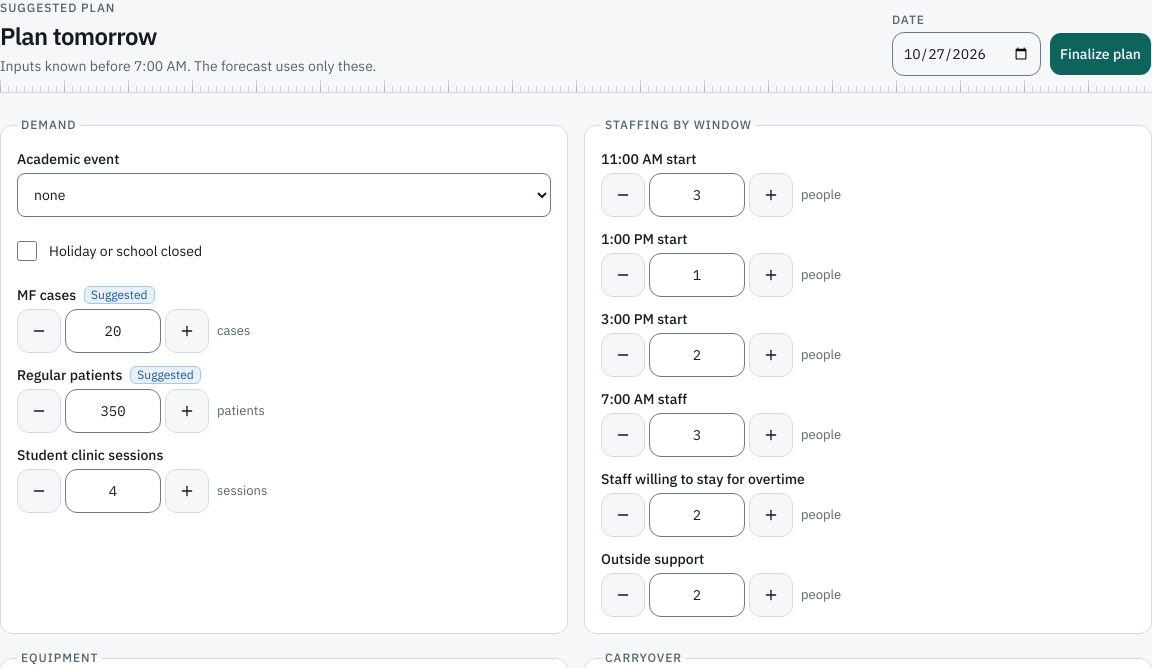
Test: PlanForm › shows a conflict message with a reload option on 409
The width and height of the screenshot is (1152, 668).
Check: the field labelled "Regular patients" is shown, box left=65, top=389, right=161, bottom=433
What coordinates should you click on to do the following:
click the button "Finalize plan"
I would click on:
 (1100, 54)
Its box is left=1049, top=32, right=1151, bottom=76.
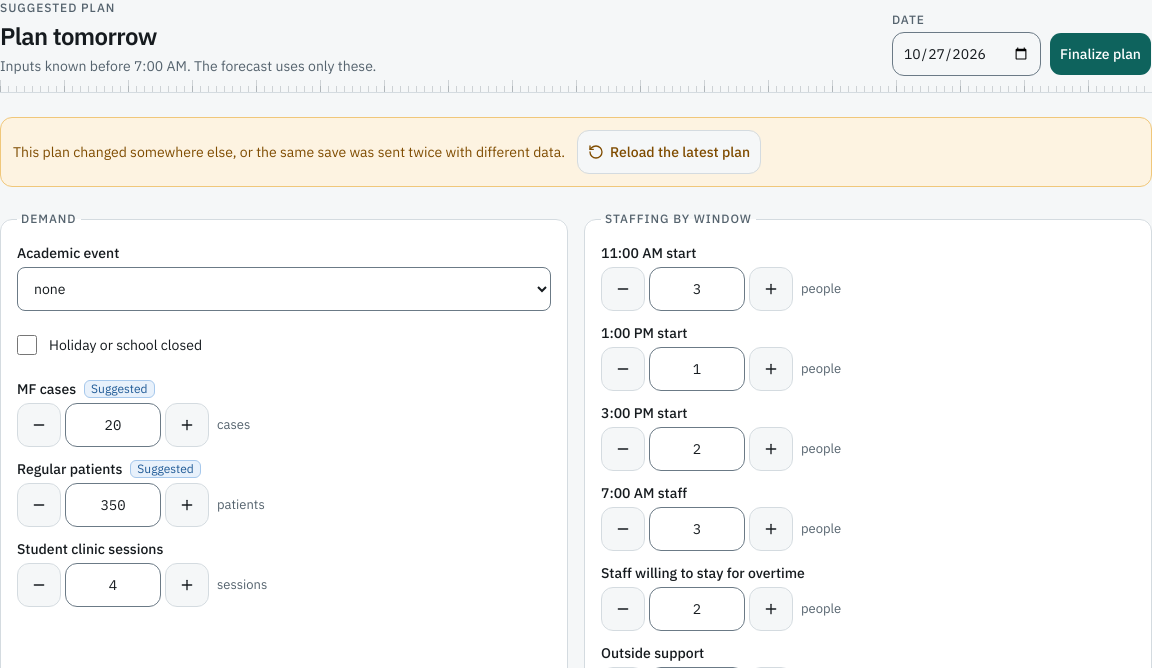
Check: the button "Reload the latest plan" is shown, box left=577, top=130, right=761, bottom=174
